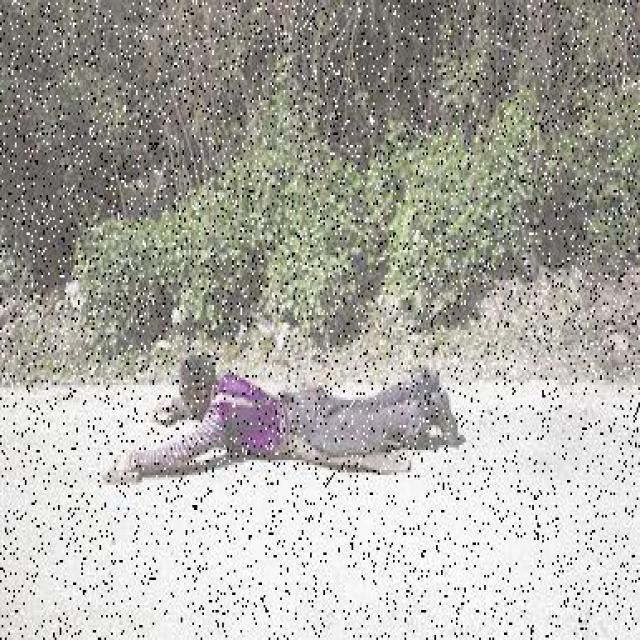fall: (116, 348, 461, 478)
